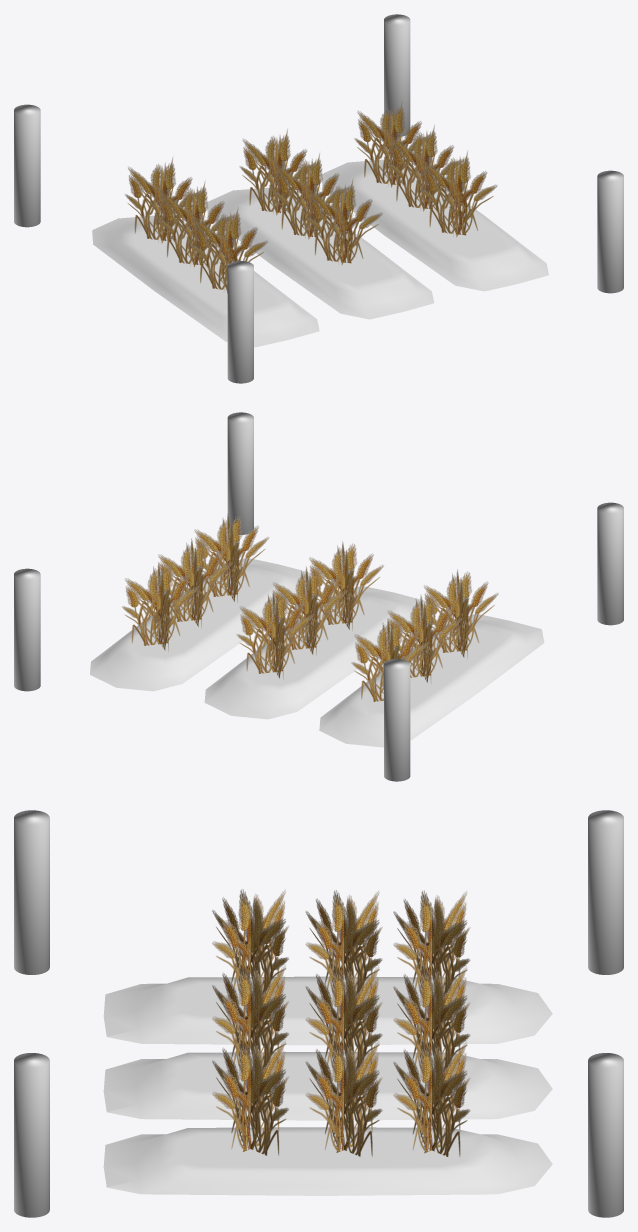
The model's file is wheatField.glb.
3 renders of one model, top to bottom at view 1: azimuth 30°, elevation 25°; view 2: azimuth 150°, elevation 25°; view 3: azimuth 270°, elevation 25°, orthographic. The views are drawn at different scales.
Visible parts, largest first — view 1: Plane, Cylinder.007; view 2: Plane, Cylinder.007; view 3: Plane, Cylinder.007.
Part boxes in pixels (x1,y1,x2,y2): Plane: (92, 100, 548, 347); Cylinder.007: (14, 14, 623, 383); Plane: (90, 514, 544, 747); Cylinder.007: (14, 412, 623, 781); Plane: (103, 889, 552, 1195); Cylinder.007: (14, 810, 623, 1217).
Bounding box in the file's own units: 2.94 × 0.7948 × 2.94.
3 materials, 1 textured.
